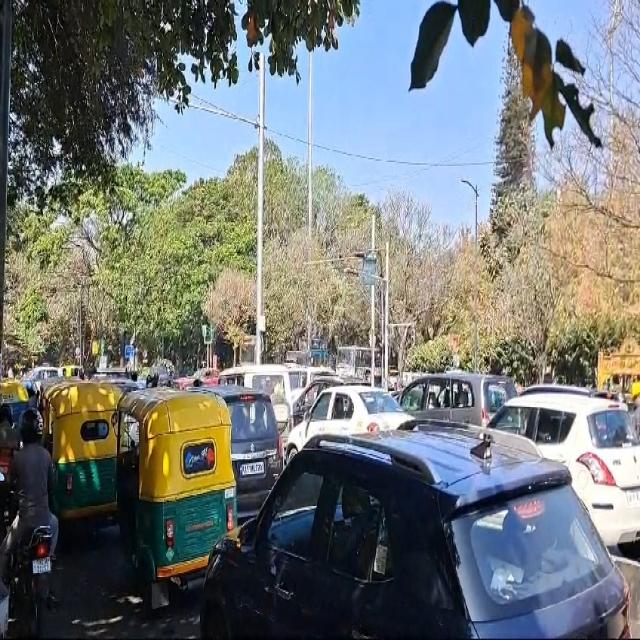cars: (203, 429, 633, 640), (490, 390, 640, 548), (287, 388, 415, 459), (401, 375, 521, 444), (222, 393, 286, 522)
